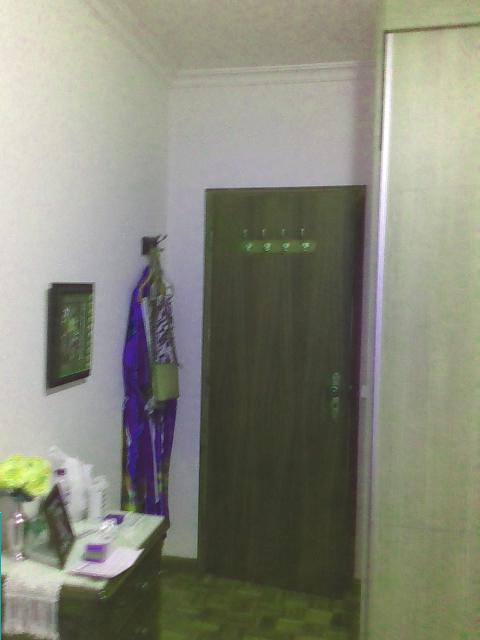closed_door: (196, 185, 365, 602)
